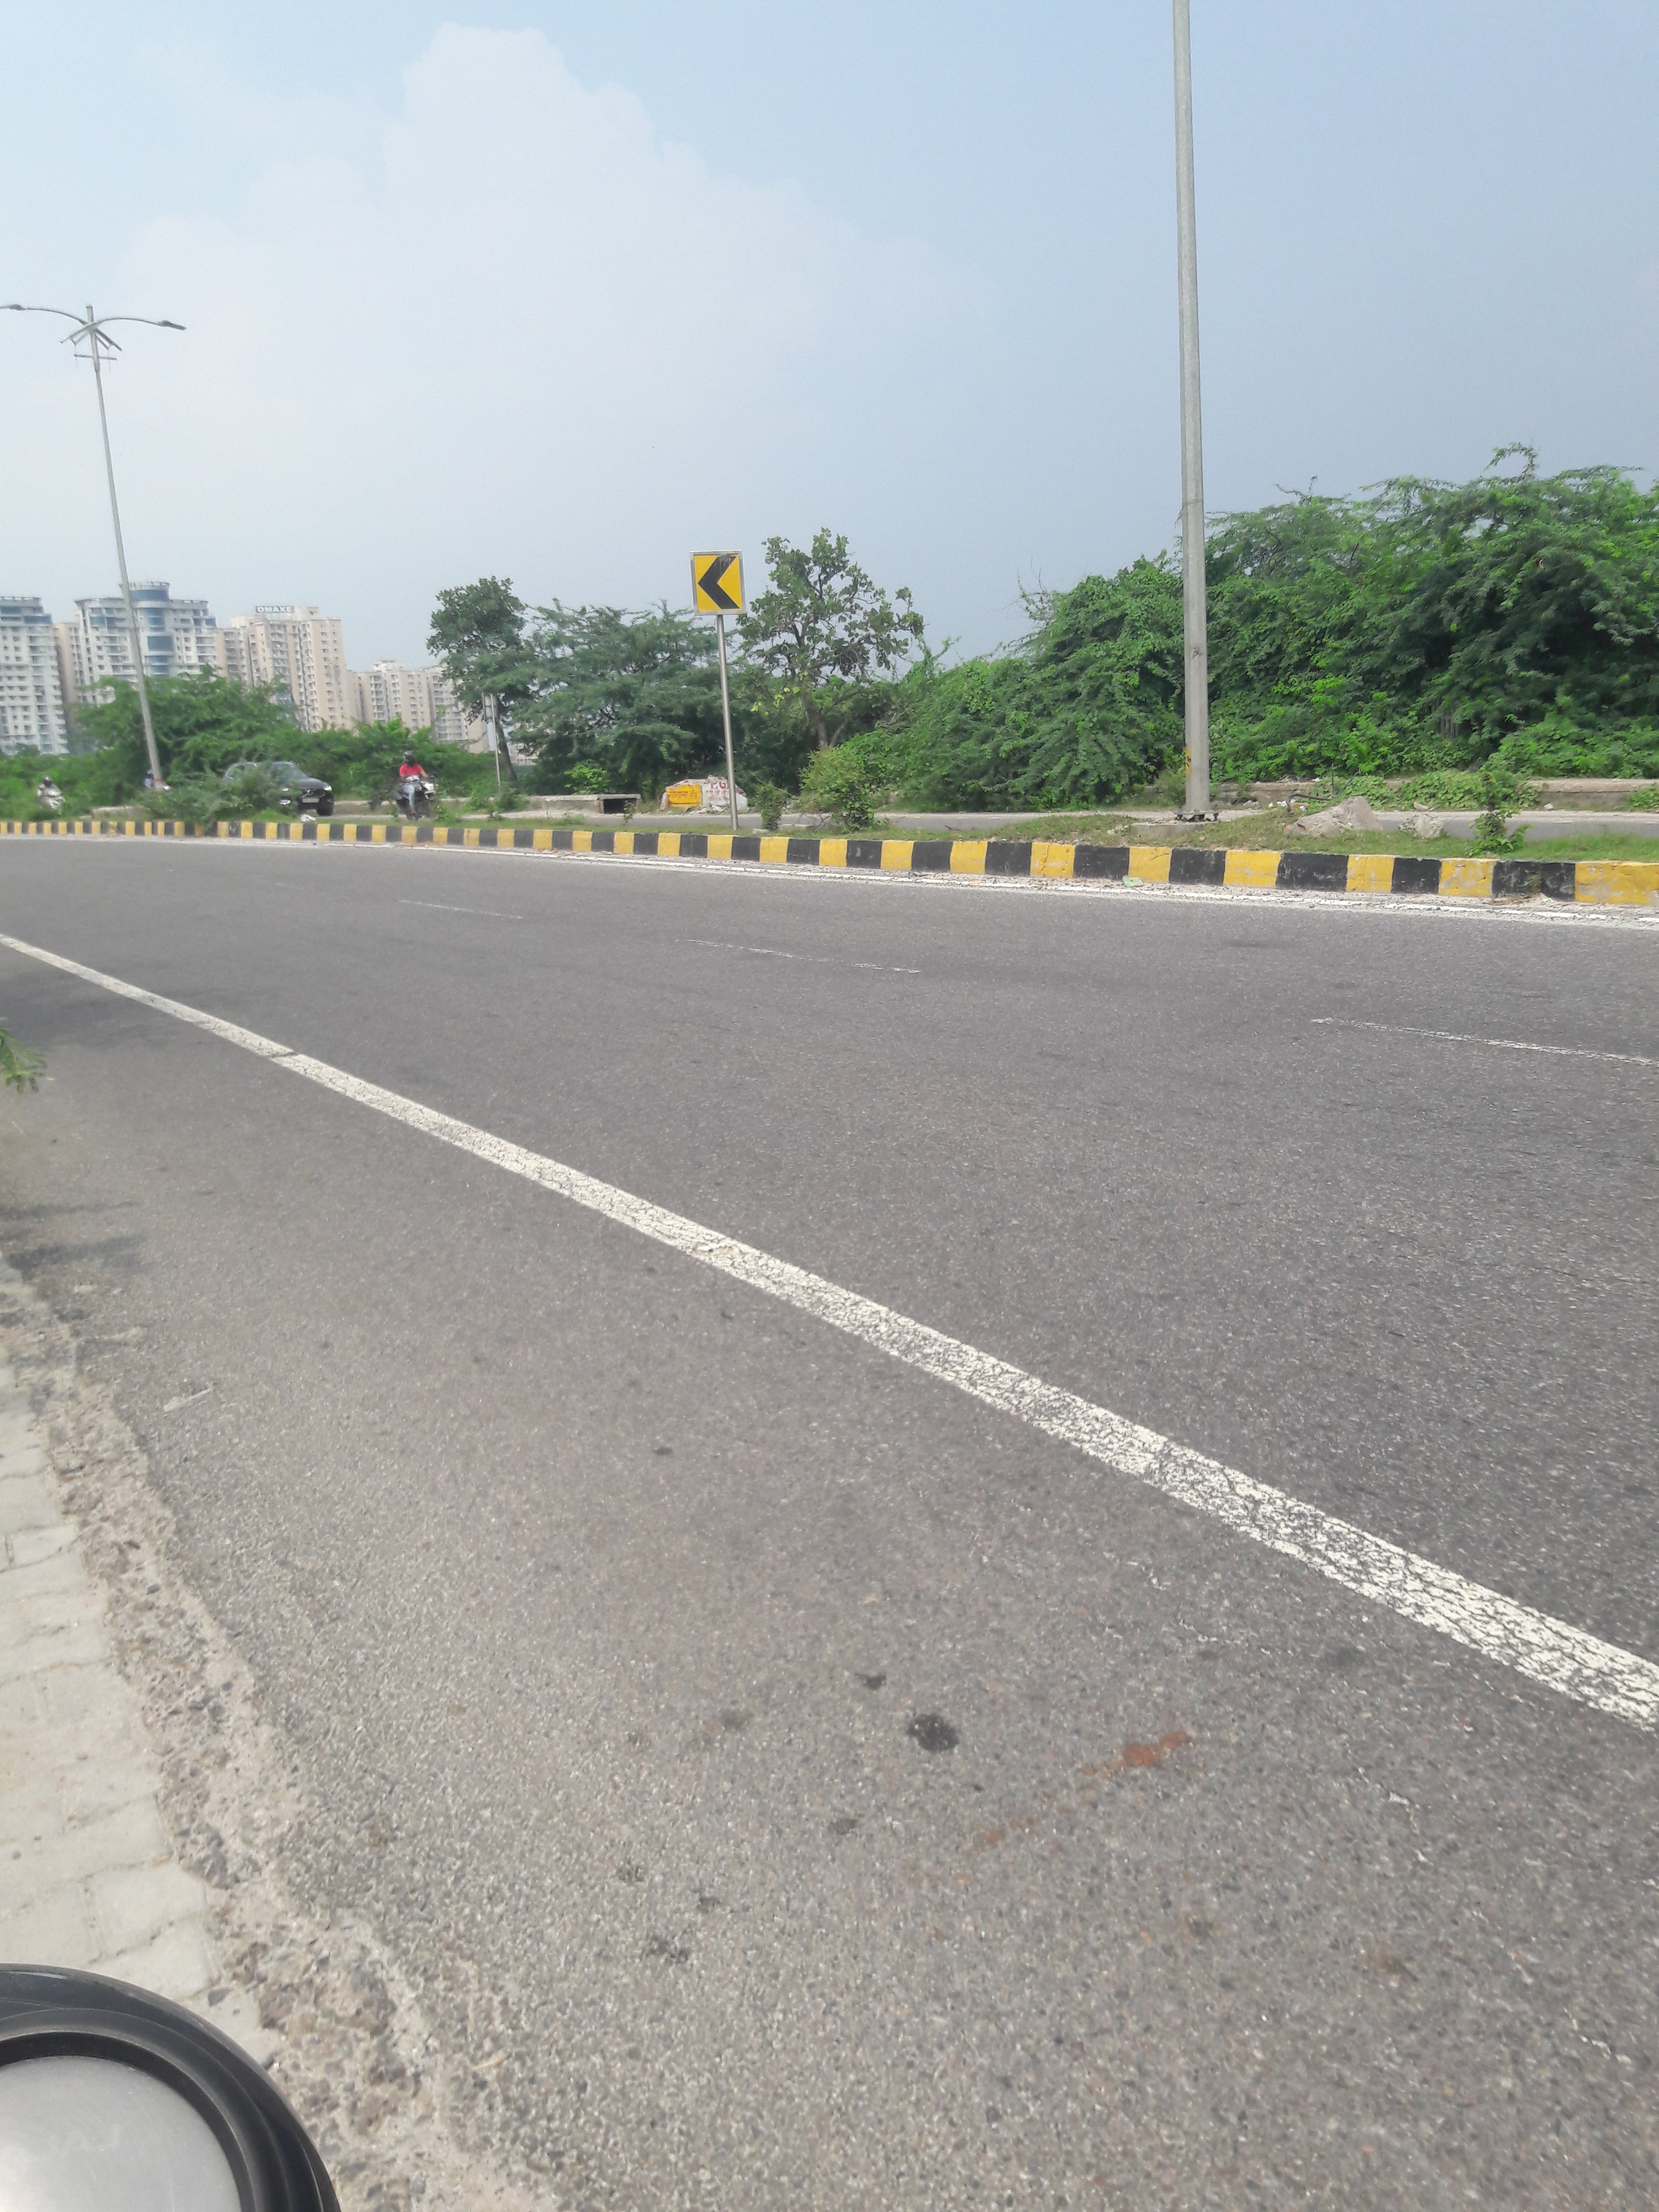traffic_sign: (692, 550, 746, 617)
